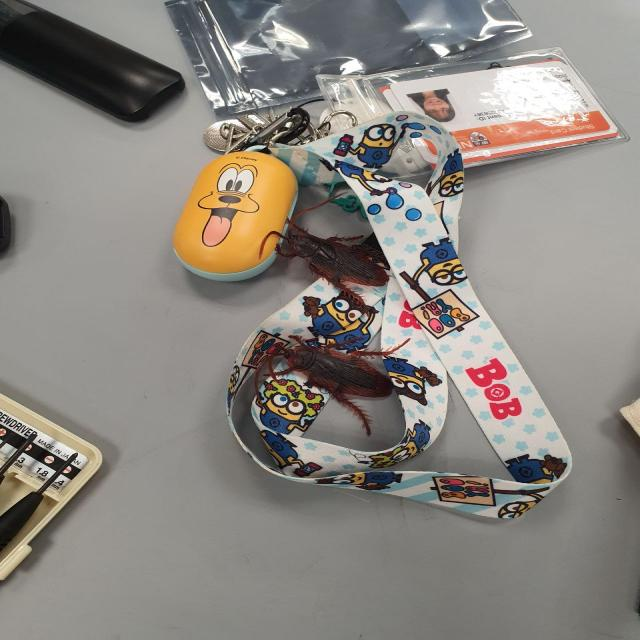Cockroach: (248, 321, 426, 436), (260, 206, 400, 300)
